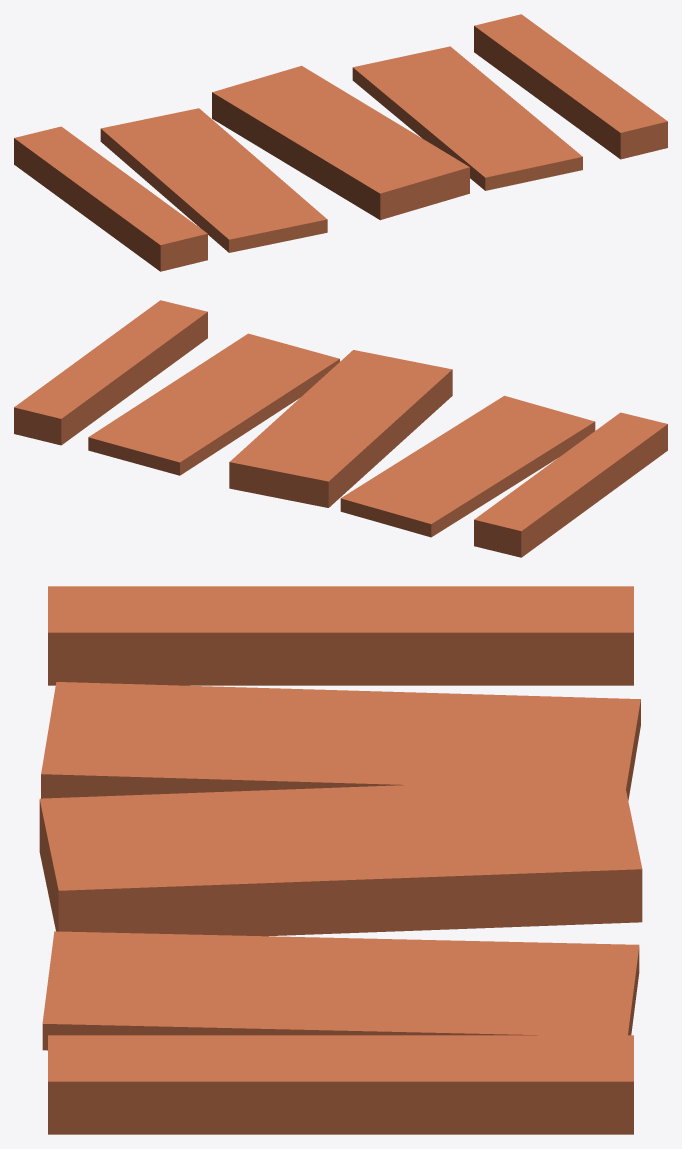
File: path_wood.dae
The picture shows the model from 3 angles, top to bottom: view 1: azimuth 30°, elevation 25°; view 2: azimuth 150°, elevation 25°; view 3: azimuth 270°, elevation 25°; orthographic projection. The views are drawn at different scales.
Parts seen in each view (by area): view 1: path_wood; view 2: path_wood; view 3: path_wood.
Boxes of the visible parts, x1,y1,x2,y2 form: path_wood: [14, 14, 667, 271]; path_wood: [14, 300, 667, 557]; path_wood: [39, 586, 642, 1134].
Bounding box in the file's own units: 1 × 0.05 × 0.5144.
